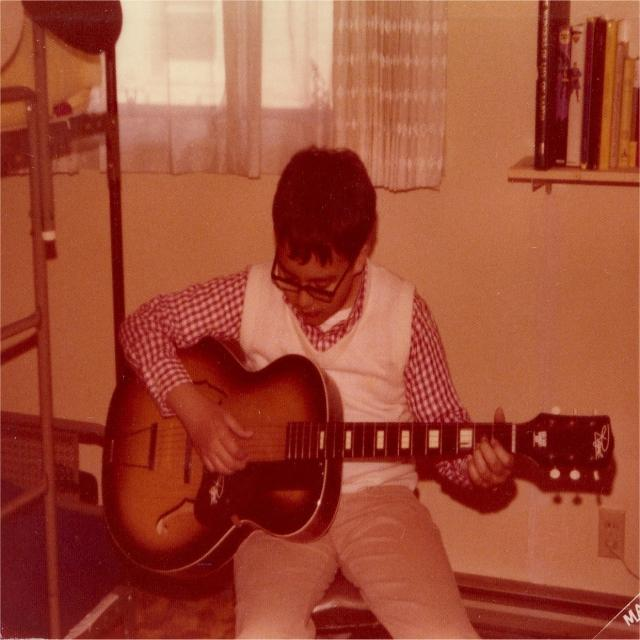guitar: (102, 328, 616, 585)
